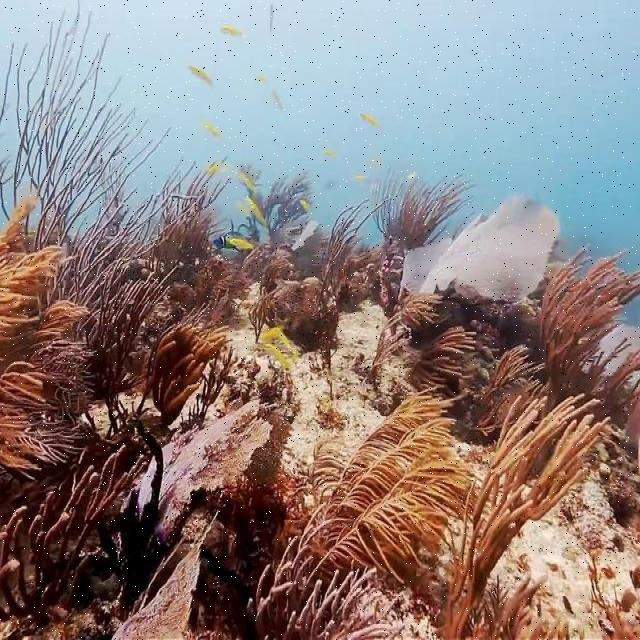reefs: (0, 1, 639, 639)
